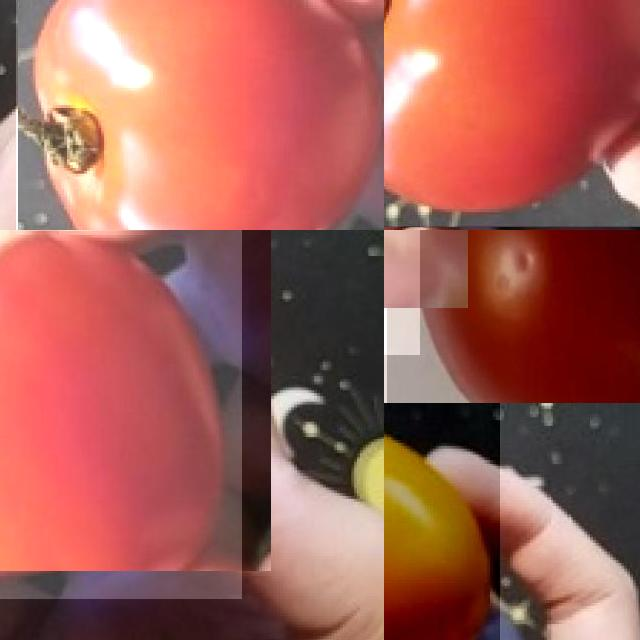Fresh Tomato: (0, 230, 242, 599), (16, 0, 384, 230), (384, 0, 640, 226), (386, 230, 640, 403)
Rotten Tomato: (384, 403, 500, 640)
